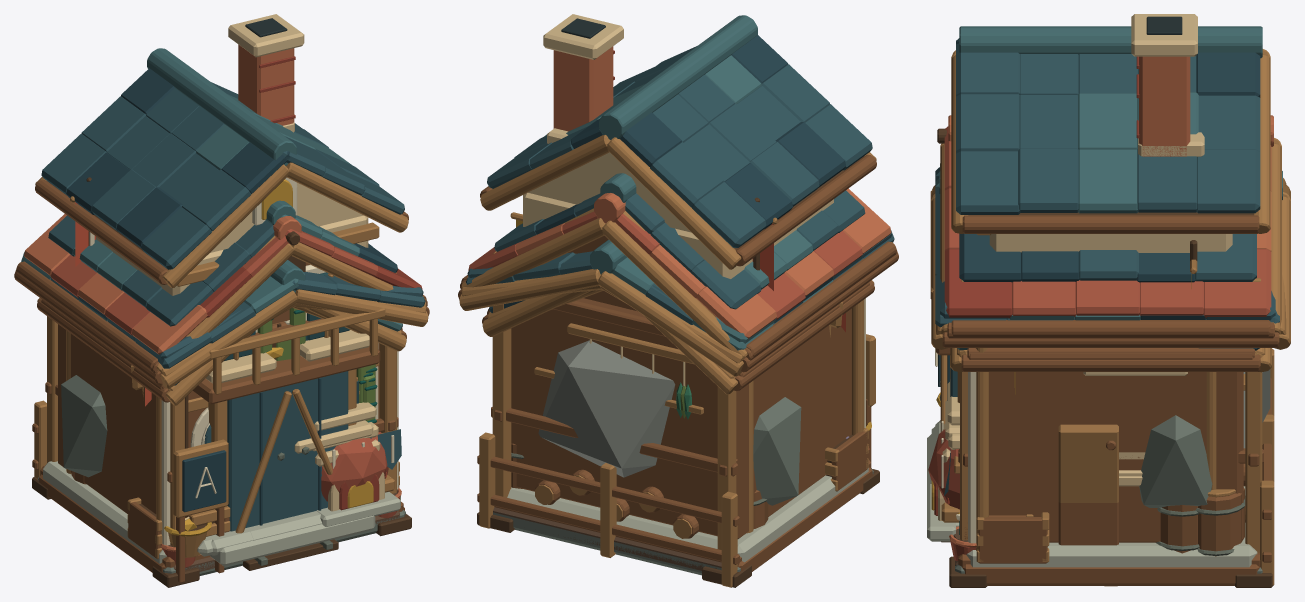
The model's file is town-kit.glb.
The picture shows the model from 3 angles, left to right: view 1: azimuth 30°, elevation 25°; view 2: azimuth 150°, elevation 25°; view 3: azimuth 270°, elevation 25°; orthographic projection. The views are drawn at different scales.
Parts seen in each view (by area): view 1: upgrade_cottage_mesh, warehouse_mesh, school_mesh, sawmill_mesh, bakery_mesh, construction_mesh, barracks_mesh, mine_mesh, market_mesh, smith_mesh, farm_mesh, clinic_mesh; view 2: upgrade_cottage_mesh, warehouse_mesh, mine_mesh, sawmill_mesh, farm_mesh, construction_mesh, school_mesh, barracks_mesh, smith_mesh, market_mesh, clinic_mesh, bakery_mesh; view 3: upgrade_cottage_mesh, warehouse_mesh, sawmill_mesh, school_mesh, market_mesh, mine_mesh, bakery_mesh, construction_mesh, barracks_mesh, smith_mesh, farm_mesh, clinic_mesh.
Boxes of the visible parts, x1,y1,x2,y2 form: upgrade_cottage_mesh: [35, 14, 408, 567]; warehouse_mesh: [17, 214, 426, 566]; school_mesh: [48, 200, 397, 582]; sawmill_mesh: [14, 256, 429, 567]; bakery_mesh: [131, 122, 402, 557]; construction_mesh: [32, 272, 411, 587]; barracks_mesh: [37, 275, 406, 540]; mine_mesh: [61, 375, 338, 570]; market_mesh: [39, 322, 404, 572]; smith_mesh: [16, 252, 427, 575]; farm_mesh: [32, 400, 399, 571]; clinic_mesh: [41, 299, 402, 538]; upgrade_cottage_mesh: [480, 14, 876, 450]; warehouse_mesh: [461, 188, 895, 562]; mine_mesh: [538, 340, 801, 505]; sawmill_mesh: [458, 234, 898, 565]; farm_mesh: [477, 432, 739, 587]; construction_mesh: [477, 251, 879, 587]; school_mesh: [494, 173, 875, 462]; barracks_mesh: [482, 259, 874, 528]; smith_mesh: [460, 230, 896, 575]; market_mesh: [737, 299, 872, 571]; clinic_mesh: [487, 282, 869, 438]; bakery_mesh: [487, 128, 871, 430]; upgrade_cottage_mesh: [930, 14, 1270, 560]; warehouse_mesh: [927, 115, 1281, 567]; sawmill_mesh: [931, 167, 1290, 566]; school_mesh: [935, 233, 1256, 522]; market_mesh: [962, 348, 1260, 585]; mine_mesh: [941, 369, 1270, 542]; bakery_mesh: [927, 132, 1265, 540]; construction_mesh: [949, 278, 1272, 587]; barracks_mesh: [931, 348, 1271, 495]; smith_mesh: [936, 163, 1286, 573]; farm_mesh: [955, 348, 1274, 585]; clinic_mesh: [948, 353, 1263, 486].
Size of the model in its own units: 1.69 by 2.93 by 1.63.
